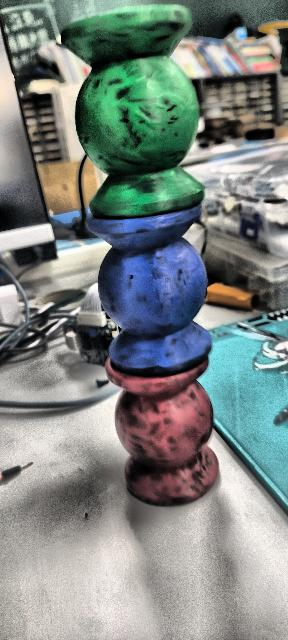blue: (85, 202, 213, 376)
green: (66, 22, 215, 222)
red: (101, 349, 219, 516)
